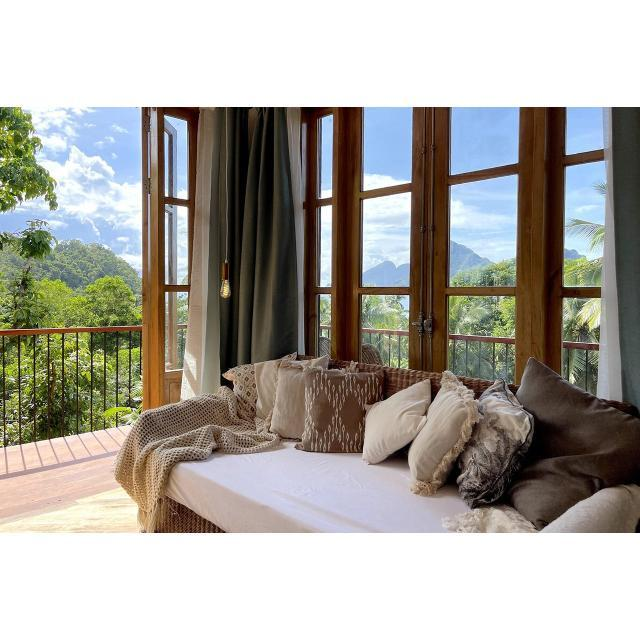pillow: (504, 354, 640, 531), (452, 374, 534, 518), (410, 373, 482, 496), (290, 369, 386, 459), (367, 382, 428, 466)
